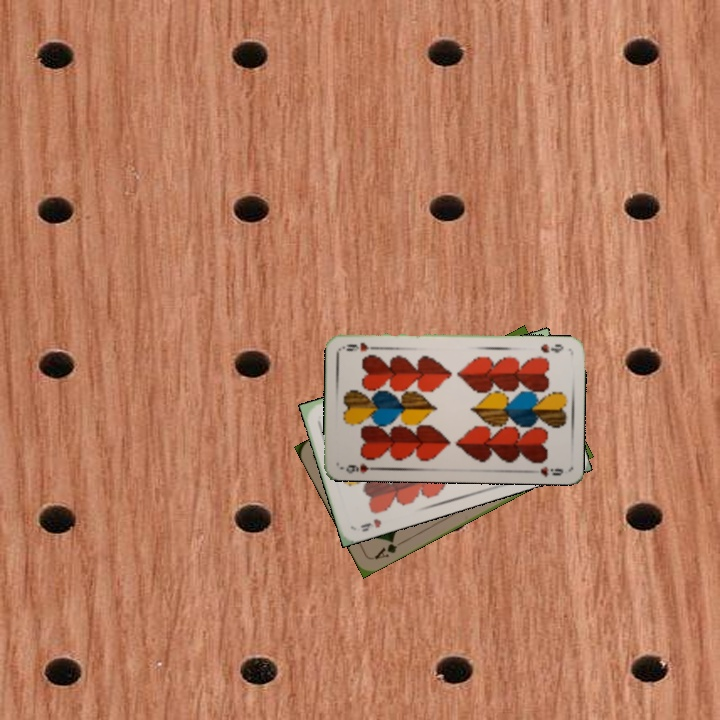GA: (371, 535, 407, 562)
H9: (338, 459, 378, 476), (356, 514, 384, 534), (537, 340, 566, 355)
